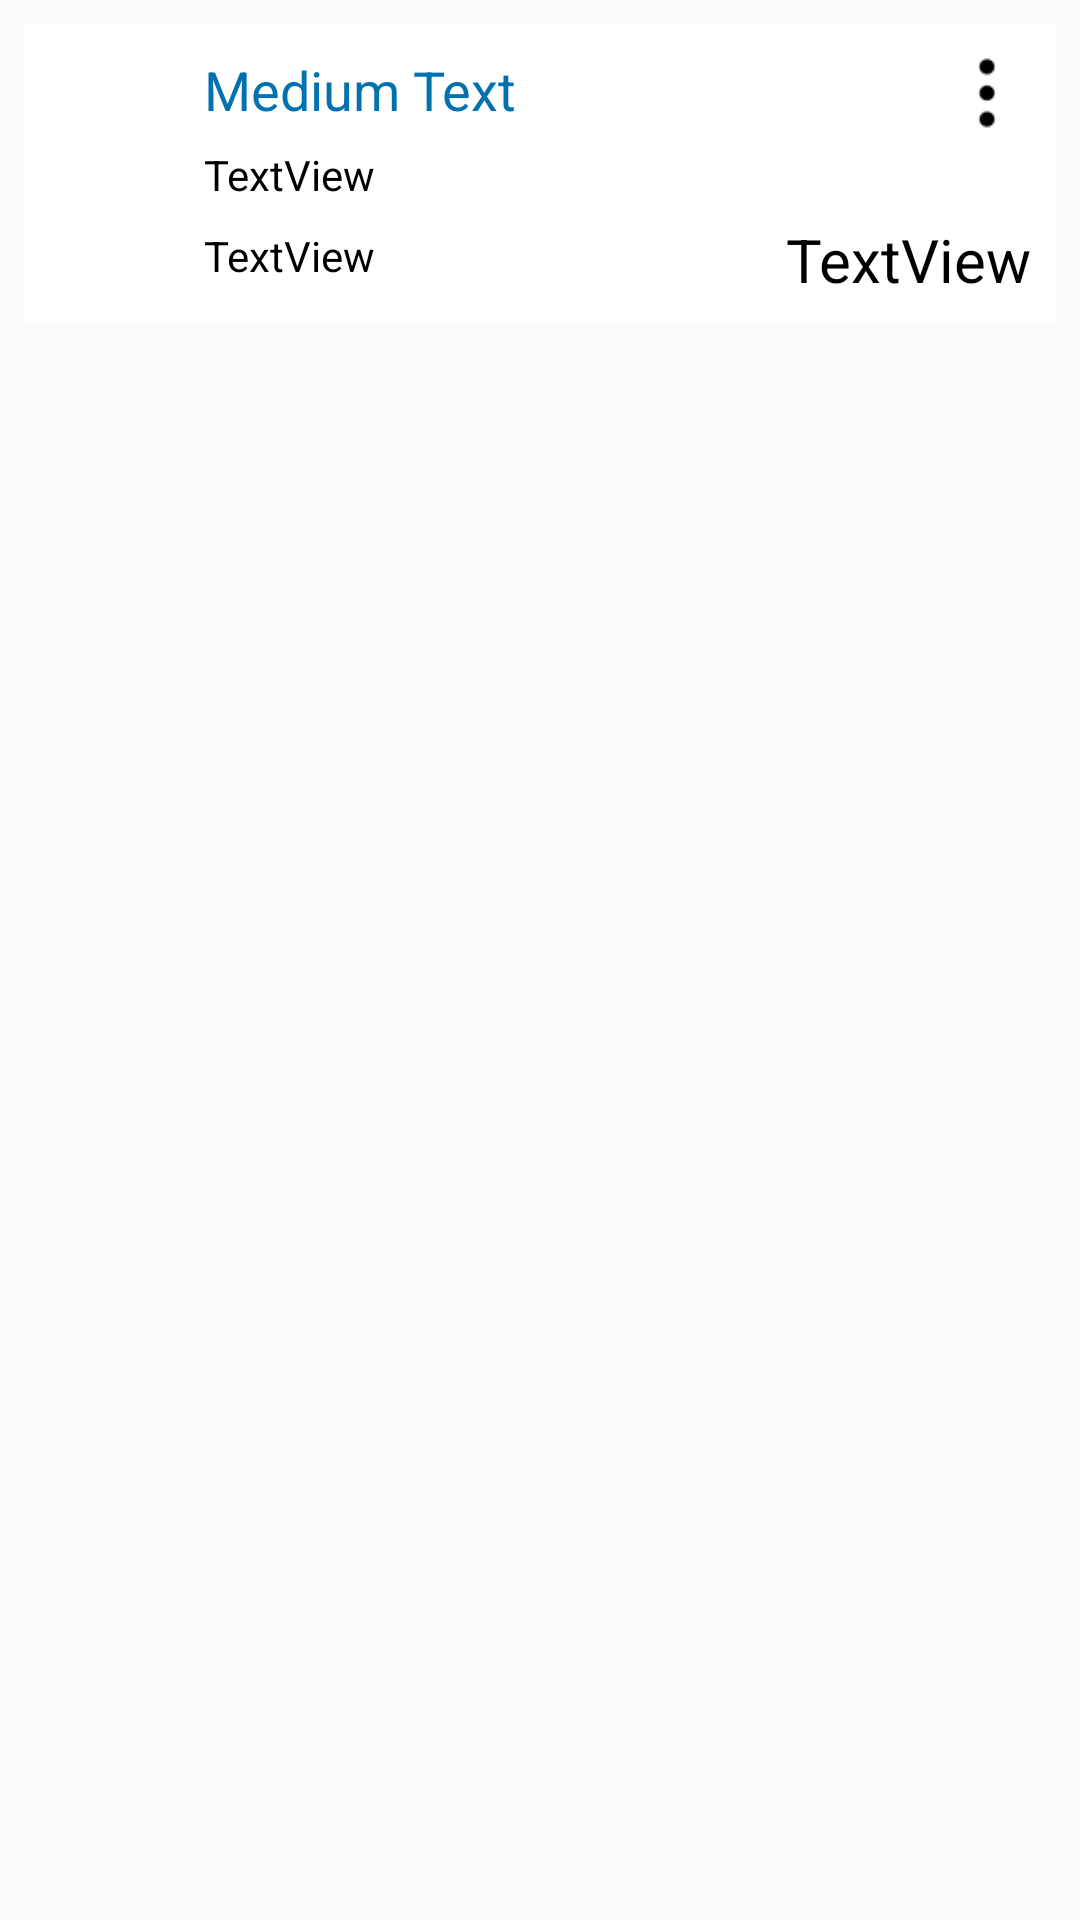

Named icons in this screenshot (1080px×1920px) and their centers, [x,y]:
menu: [987,93]
